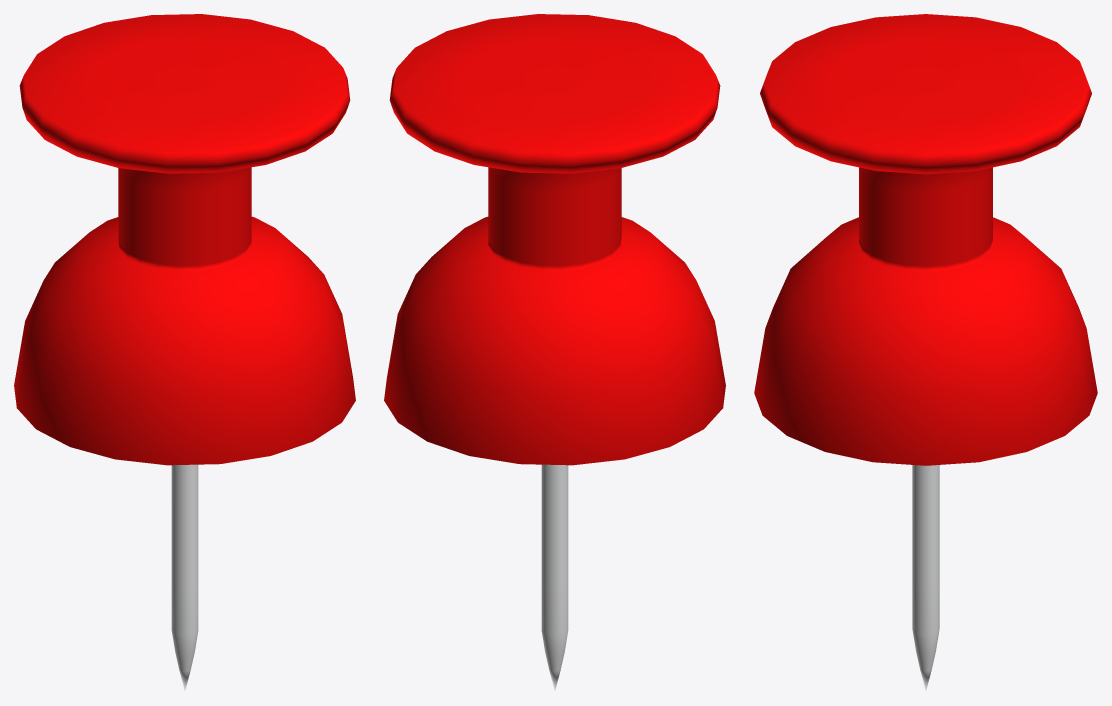
Rendered from Tac.fbx.
3 views of the same model, side by side, from view 1: azimuth 30°, elevation 25°; view 2: azimuth 150°, elevation 25°; view 3: azimuth 270°, elevation 25° (orthographic).
Parts seen in each view (by area): view 1: Tac; view 2: Tac; view 3: Tac.
Part boxes in pixels (box(x1,y1,x2,y2)): Tac: box(14, 14, 355, 690); Tac: box(384, 14, 725, 690); Tac: box(754, 14, 1097, 690).
Bounding box in the file's own units: 212 × 418 × 212.
Materials: 1 (1 with a texture image).
